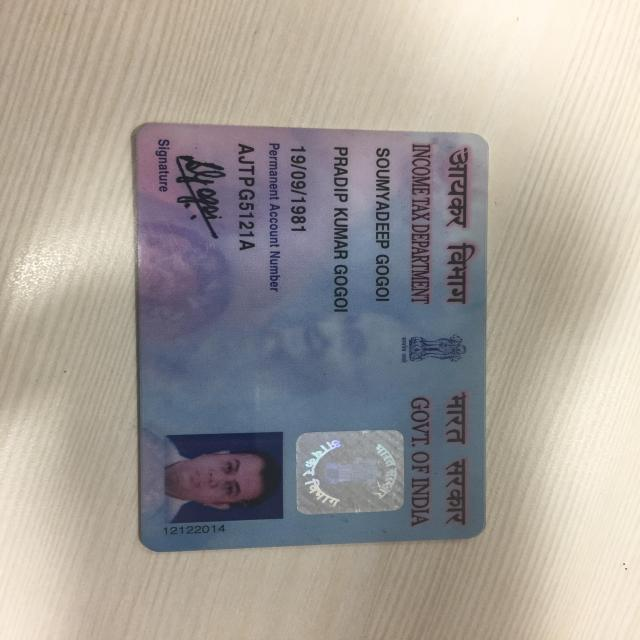pan_card: (119, 104, 640, 365)
